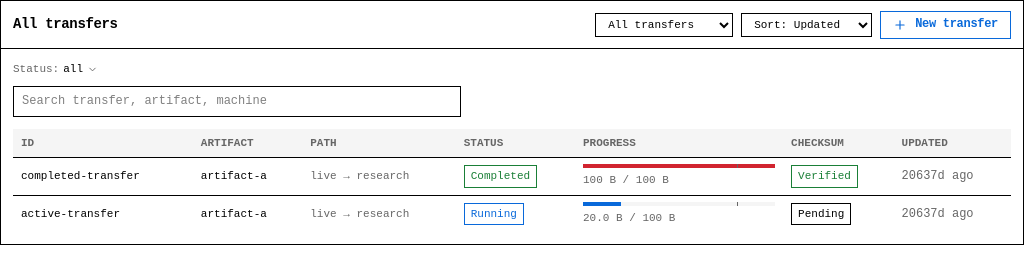
Test: ResearchTransfersPage › search input narrows the visible transfers
The image size is (1024, 262).
Step 1. Type "active-transfer" into the field named "search transfers" → (237, 101), box 13,86 -> 461,117
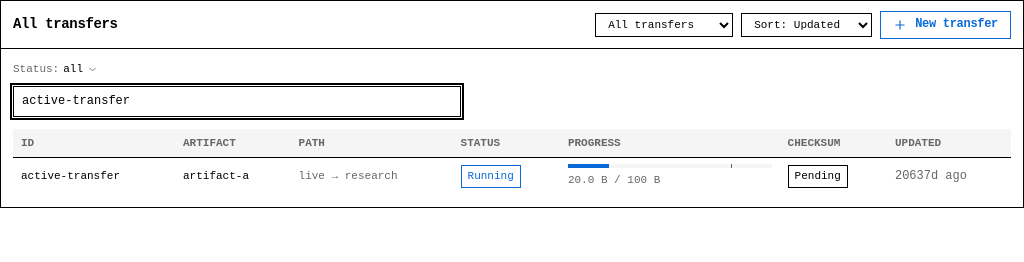
Expected: the link "active-transfer" is shown, 21,170 -> 120,182
Expected: the link "completed-transfer" is gone
